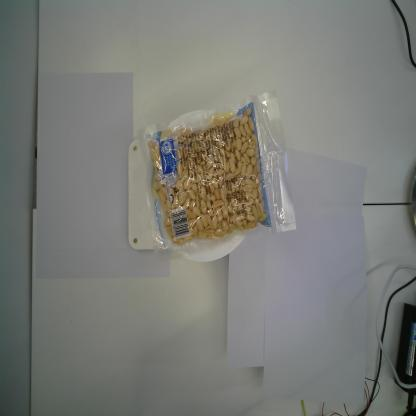Dried Fruit: (138, 89, 298, 258)
